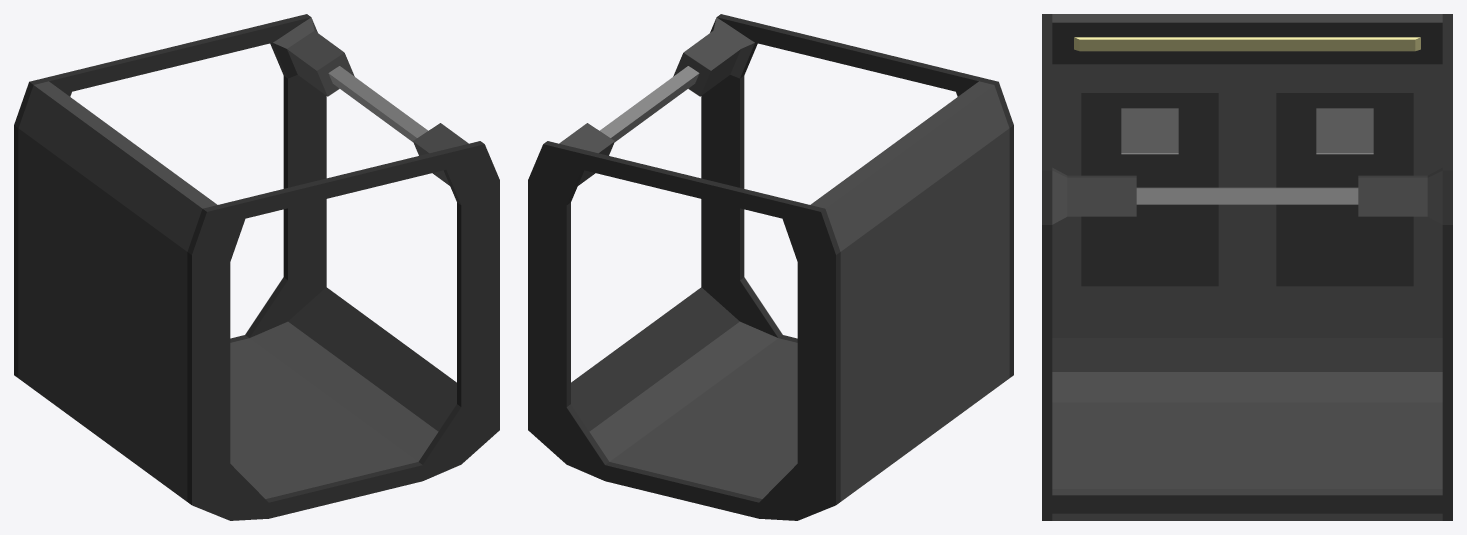
Rendered from Tile_2.fbx.
3 renders of one model, left to right at view 1: azimuth 30°, elevation 25°; view 2: azimuth 150°, elevation 25°; view 3: azimuth 270°, elevation 25°, orthographic. The views are drawn at different scales.
Parts seen in each view (by area): view 1: Tile2; view 2: Tile2; view 3: Tile2.
Part boxes in pixels (bbox=[...]): Tile2: bbox=[14, 14, 499, 520]; Tile2: bbox=[528, 14, 1013, 520]; Tile2: bbox=[1042, 14, 1452, 520].
Bounding box in the file's own units: 200 × 200 × 200.
